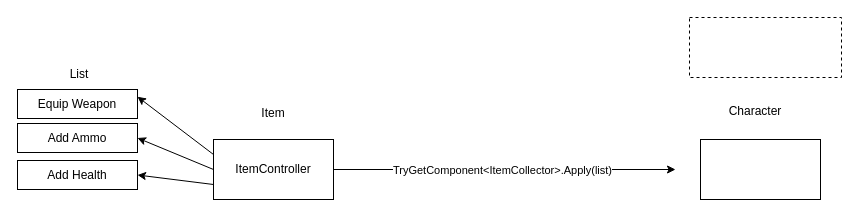
This 859x217 diagram has some shape labels left out. Each missing label, with the box of its shape:
IItemCollector Apply(ItemEffect effect): (688, 16, 842, 78)
PickupController IItemCollector: (700, 138, 820, 200)
